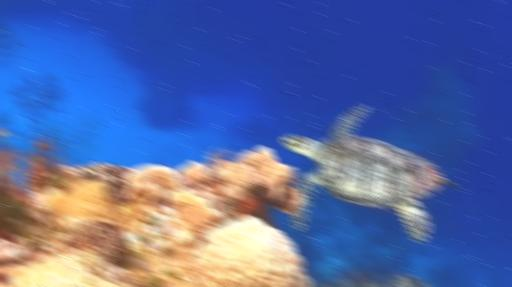Fish: (280, 104, 455, 242)
